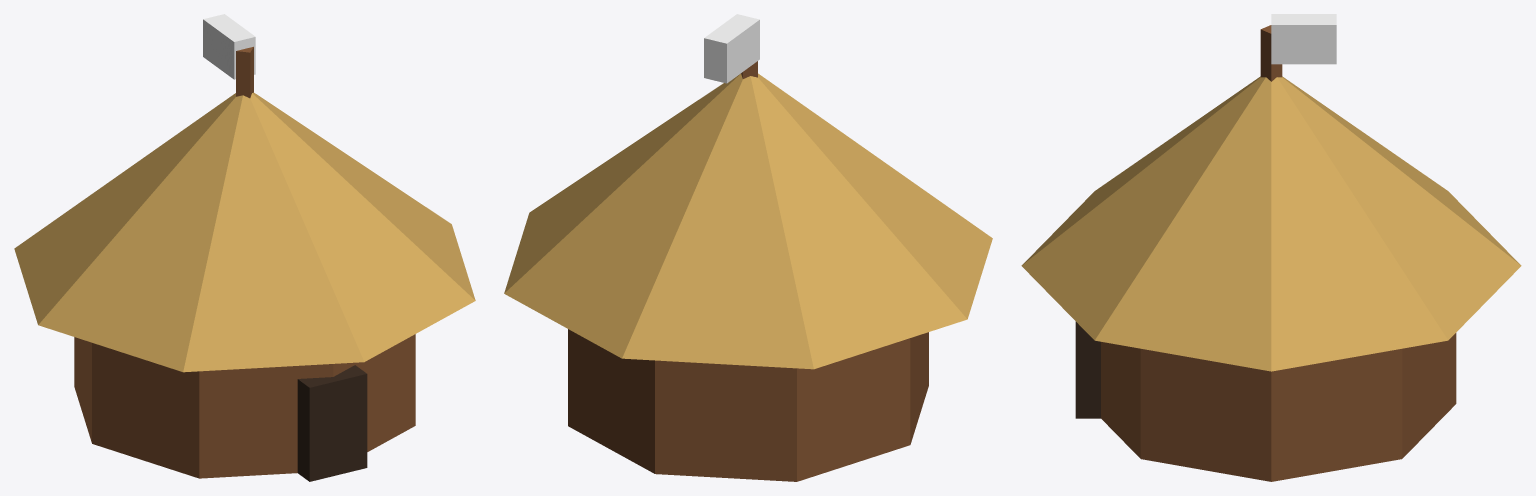
File: hut.glb
The picture shows the model from 3 angles, left to right: view 1: azimuth 30°, elevation 25°; view 2: azimuth 150°, elevation 25°; view 3: azimuth 270°, elevation 25°; orthographic projection. The views are drawn at different scales.
Visible parts, largest first — view 1: hut; view 2: hut; view 3: hut.
Boxes of the visible parts, x1=… form: hut: x1=14, y1=14, x2=475, y2=481; hut: x1=504, y1=14, x2=992, y2=481; hut: x1=1021, y1=14, x2=1521, y2=481.
Size of the model in its own units: 2.3 by 1.95 by 2.3.
